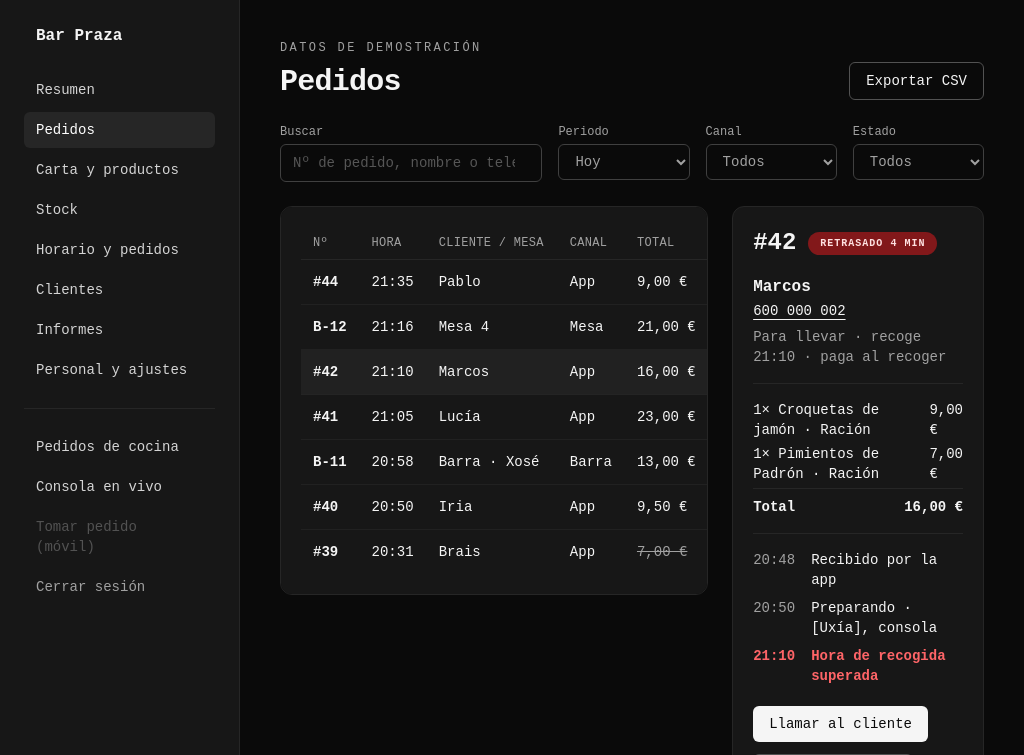
OrdersPage edge cases › says so when no order matches the filters
The width and height of the screenshot is (1024, 755).
Type "zzz" into the search field labelled "Buscar" at (411, 163), box [280,144,542,182]
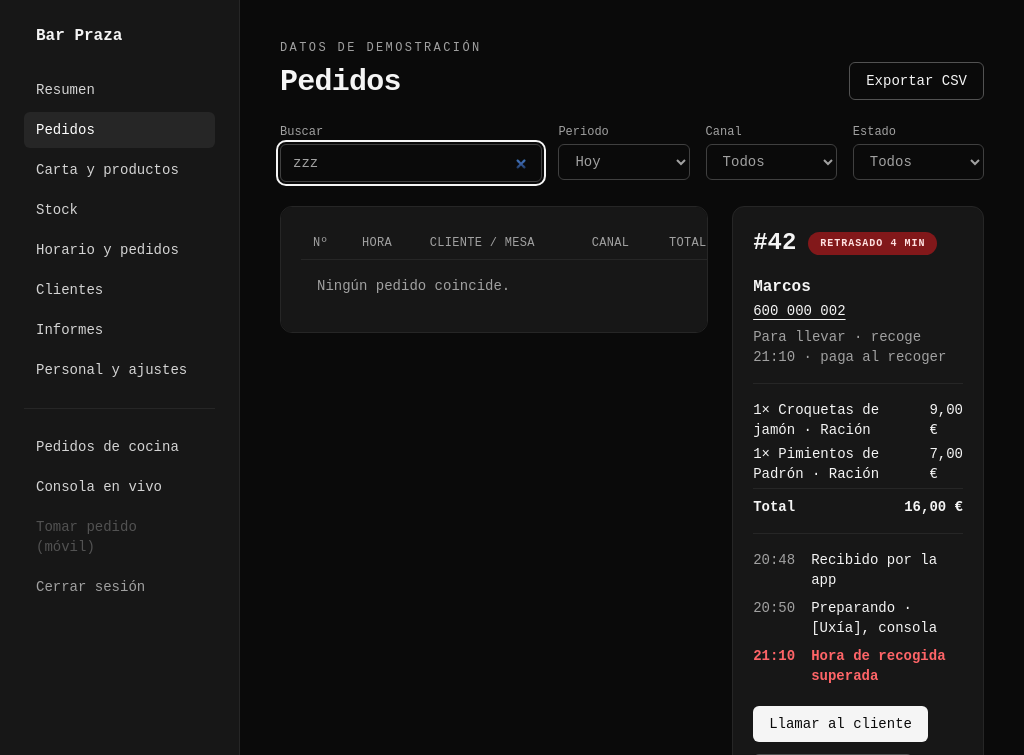
Result: the text "Ningún pedido coincide." is shown at [317,278,510,294]
